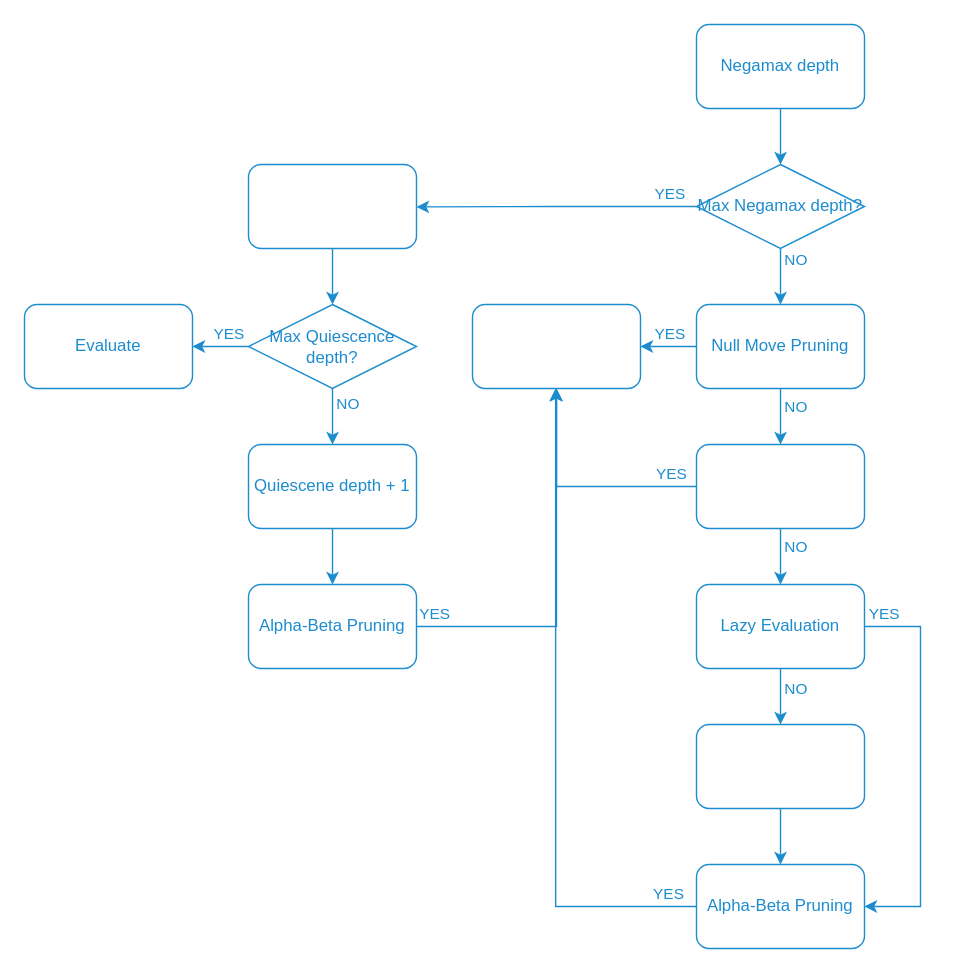
Image size: 956x973. Some labels were removed from this diagram. Here are the shapes that lost their labels. From the top down, the centre of each, then its label:
At pixel 331 205: "Quiescence depth".
At pixel 555 345: "Cut off".
At pixel 779 485: "Reverse Futility Pruning".
At pixel 779 765: "Negamax depth + 1".
